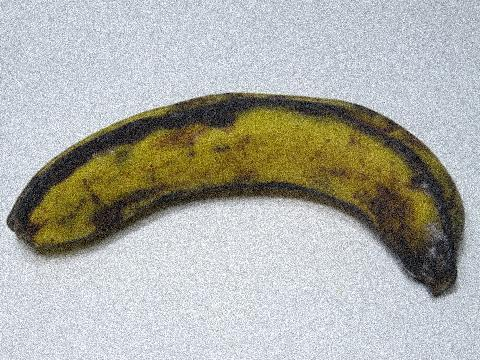overripe: (7, 77, 469, 294)
rotten: (363, 180, 475, 301)
